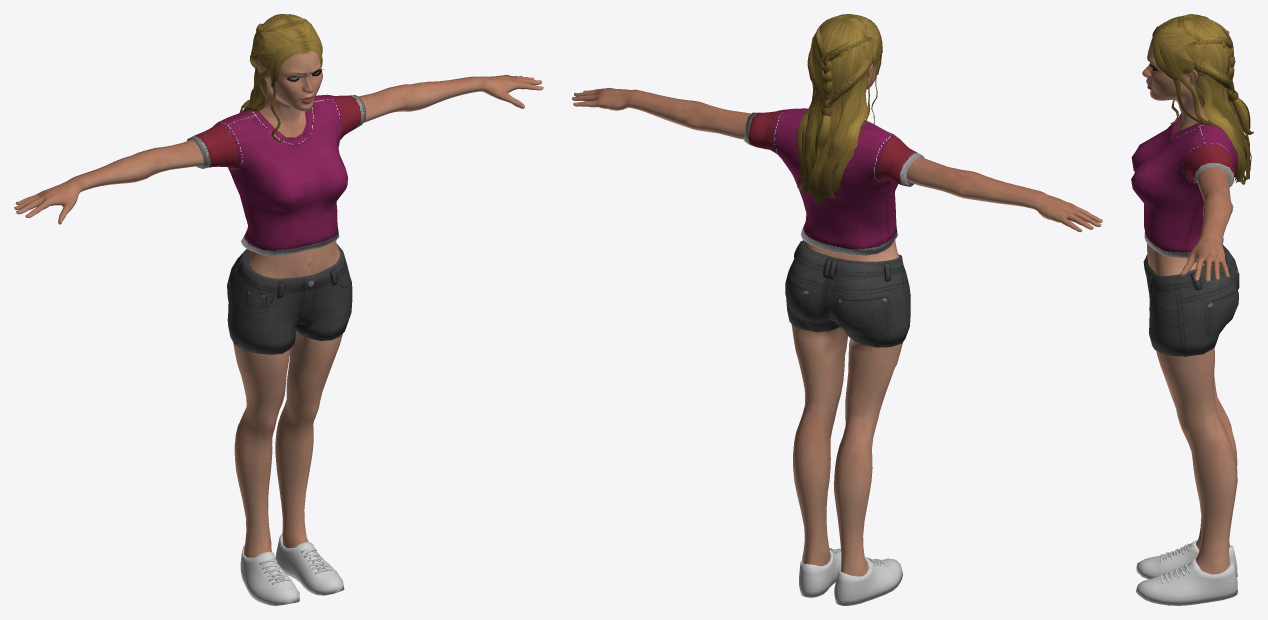
Rendered from AngryGirl.obj.
The picture shows the model from 3 angles, left to right: view 1: azimuth 30°, elevation 25°; view 2: azimuth 150°, elevation 25°; view 3: azimuth 270°, elevation 25°; orthographic projection.
Visible parts, largest first — view 1: Body, Tops, Bottoms, Shoes, Hair; view 2: Body, Tops, Hair, Bottoms, Shoes; view 3: Body, Tops, Hair, Bottoms, Shoes.
Boxes of the visible parts, x1,y1,x2,y2 form: Body: [14, 51, 543, 557]; Tops: [187, 94, 366, 256]; Bottoms: [227, 244, 352, 354]; Shoes: [240, 534, 344, 605]; Hair: [239, 14, 322, 142]; Body: [572, 47, 1102, 576]; Tops: [744, 108, 924, 255]; Hair: [796, 14, 882, 204]; Bottoms: [785, 240, 910, 347]; Shoes: [799, 548, 902, 605]; Body: [1142, 30, 1237, 574]; Tops: [1131, 113, 1238, 258]; Hair: [1152, 14, 1253, 184]; Bottoms: [1143, 245, 1239, 356]; Shoes: [1136, 540, 1237, 605].
Bounding box in the file's own units: 170 × 175 × 34.33.
